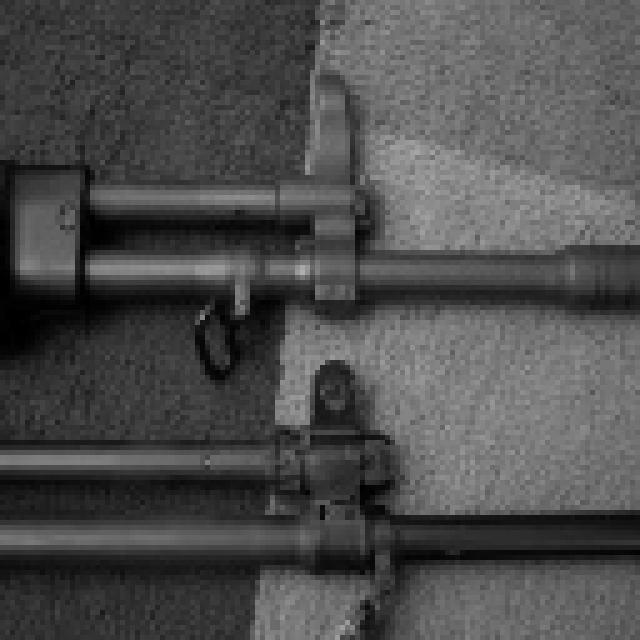Rifle: (0, 57, 640, 391), (0, 314, 640, 640)
